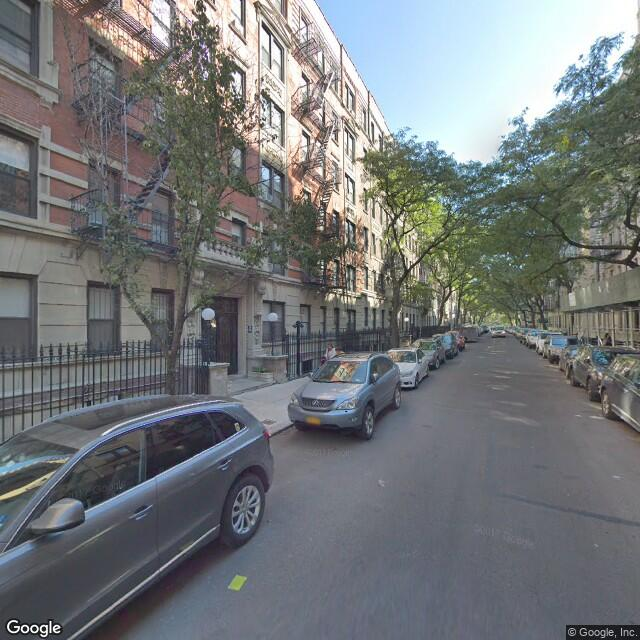window: (1, 271, 35, 359), (89, 283, 119, 354)
